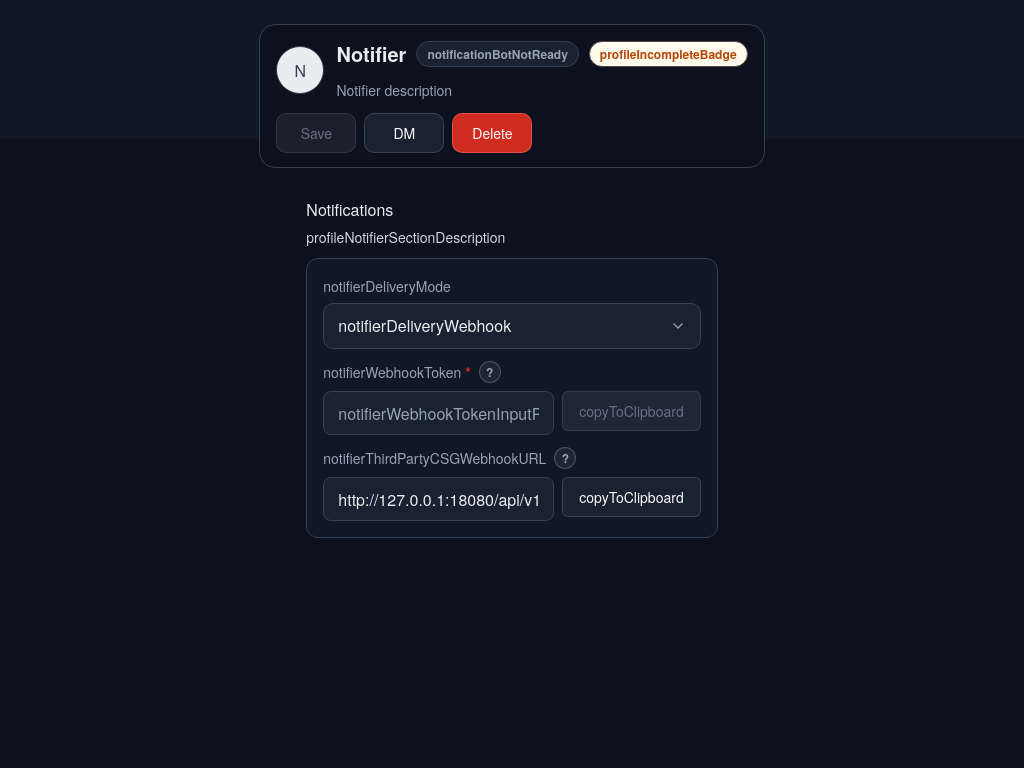
Test: agent action visibility › matches the notification bot profile header interaction and keeps actions on the right
The width and height of the screenshot is (1024, 768).
expect the heading "Notifier" is shown: met, box x1=336 y1=39 x2=406 y2=69
expect the element named "Edit description" is shown: met, box x1=336 y1=39 x2=748 y2=101
What coordinates should you click on to do the following:
click the button with aria-label "Edit description"
I would click on:
 (394, 90)
Its box is x1=336 y1=79 x2=748 y2=101.
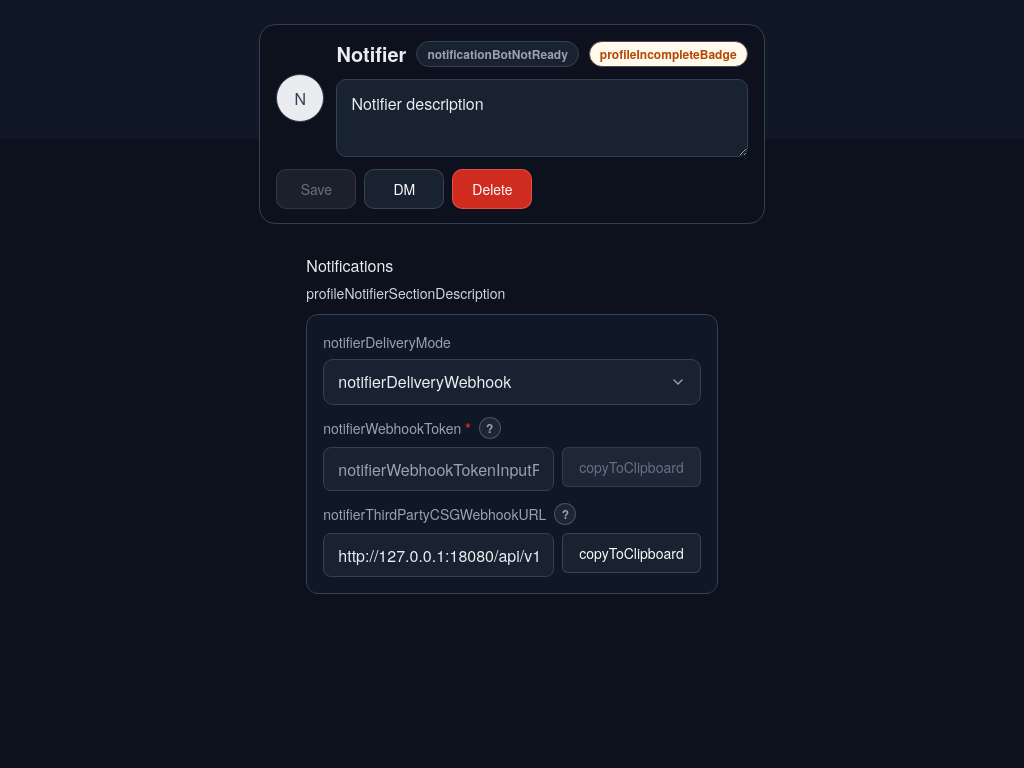
expect the text "notifierDeliveryMode" is shown: met, box x1=323 y1=332 x2=451 y2=352
expect the text box showing "Notifier description" is shown: met, box x1=336 y1=79 x2=748 y2=157
